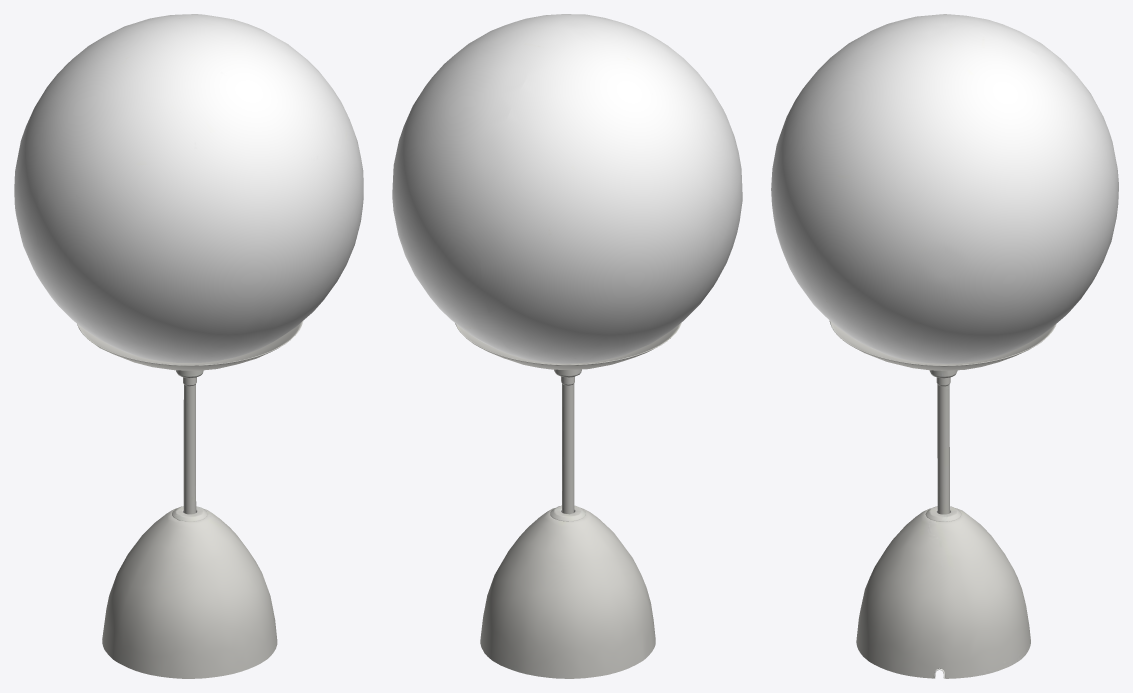
File: holjes_lampa_wiszaca_20325772.glb
3 views of the same model, side by side, from view 1: azimuth 30°, elevation 25°; view 2: azimuth 150°, elevation 25°; view 3: azimuth 270°, elevation 25° (orthographic).
Visible parts, largest first — view 1: holjes_lampa_wiszaca_20325772; view 2: holjes_lampa_wiszaca_20325772; view 3: holjes_lampa_wiszaca_20325772.
Boxes of the visible parts, bbox=[...] form: holjes_lampa_wiszaca_20325772: bbox=[14, 14, 363, 678]; holjes_lampa_wiszaca_20325772: bbox=[392, 14, 742, 678]; holjes_lampa_wiszaca_20325772: bbox=[771, 14, 1118, 678].
Size of the model in its own units: 0.254 by 0.4892 by 0.2522.
Materials: 1 (1 with a texture image).
